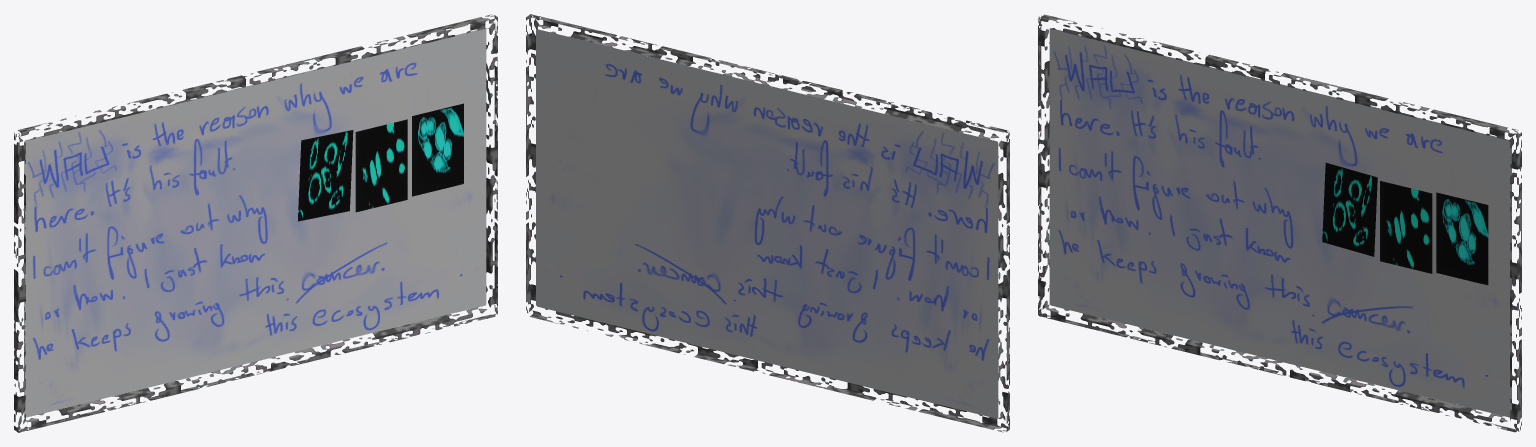
File: whiteboard_wau.dae
3 renders of one model, left to right at view 1: azimuth 30°, elevation 25°; view 2: azimuth 150°, elevation 25°; view 3: azimuth 330°, elevation 25°, orthographic.
Visible parts, largest first — view 1: polySurface185; view 2: polySurface185; view 3: polySurface185.
Part boxes in pixels (bbox=[...]): polySurface185: bbox=[14, 14, 497, 432]; polySurface185: bbox=[526, 14, 1009, 432]; polySurface185: bbox=[1038, 14, 1521, 432].
Bounding box in the file's own units: 174 × 104 × 2.52.
